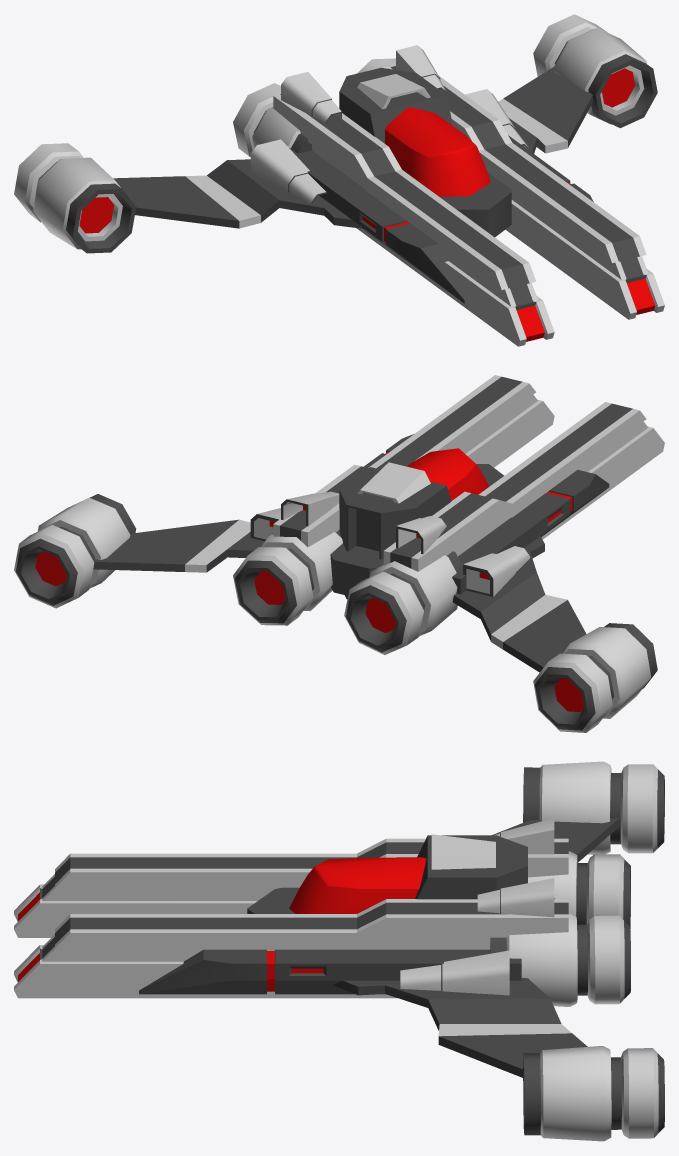
The model's file is starship_01.fbx.
3 views of the same model, one above another, from view 1: azimuth 30°, elevation 25°; view 2: azimuth 150°, elevation 25°; view 3: azimuth 270°, elevation 25° (orthographic). The views are drawn at different scales.
Parts seen in each view (by area): view 1: Starship_v1; view 2: Starship_v1; view 3: Starship_v1.
Part boxes in pixels (<box>): Starship_v1: <box>14,14,664,346</box>; Starship_v1: <box>14,375,664,732</box>; Starship_v1: <box>14,761,664,1141</box>.
Size of the model in its own units: 10.02 by 2.15 by 8.48.
